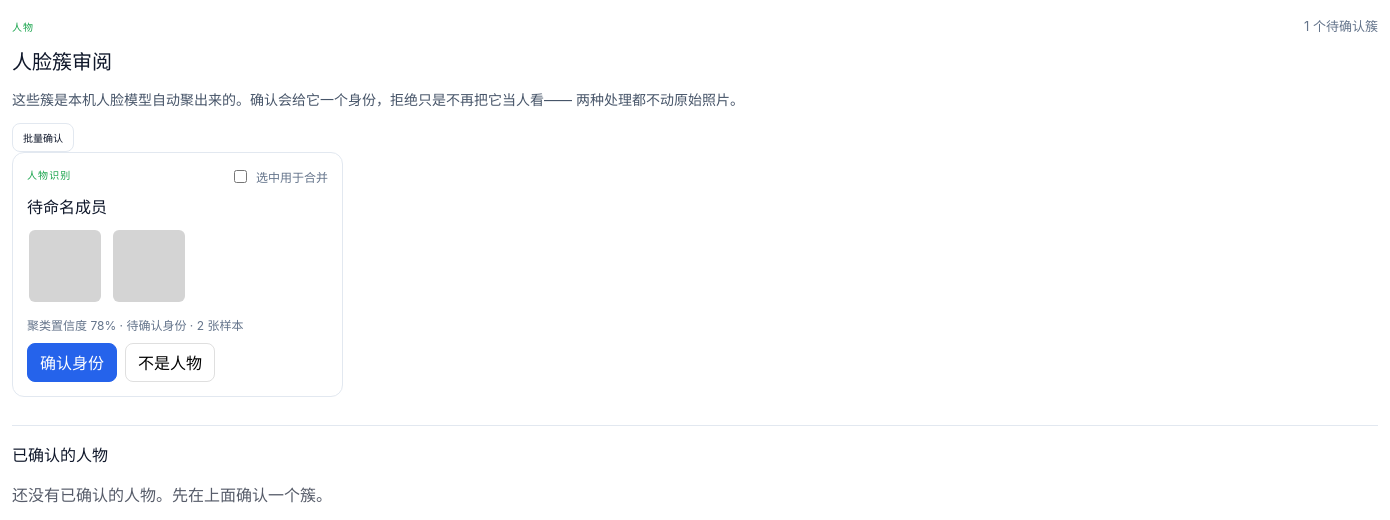
Scenario: 人脸簇审阅页 › 拒绝一个簇会打到 reject 端点，并把它从列表里去掉
Click the button "不是人物".
click(170, 362)  # box [125, 343, 215, 382]
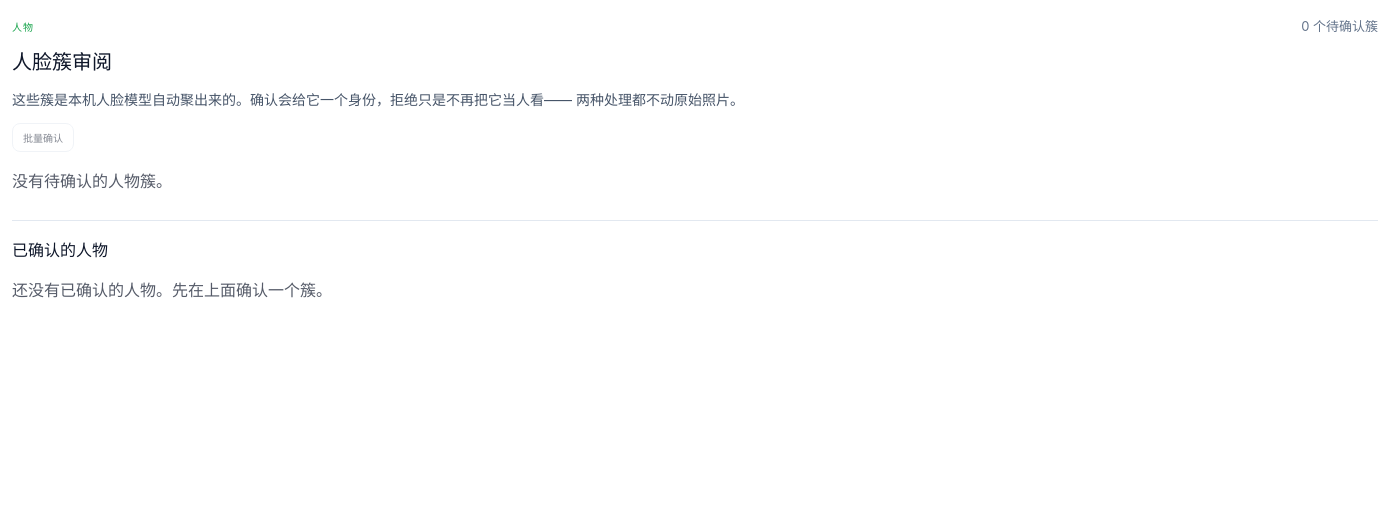
Expected: the text "0 个待确认簇" is shown, [1301, 16, 1378, 35]
